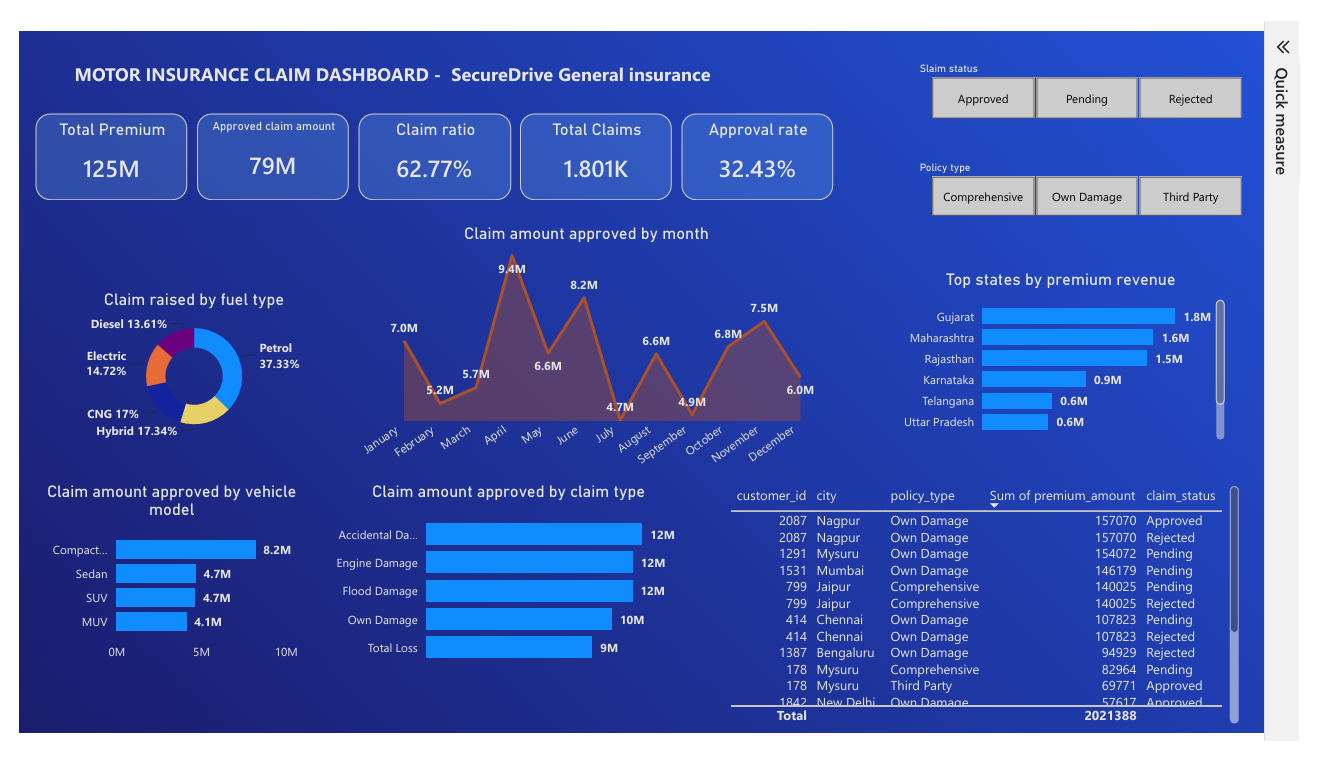

What the dashboard file says about the page in this screenshot:
{"tool":"powerbi","page":{"name":"Page 1","canvas":[1280,720],"ordinal":0},"visuals":[{"type":"barChart","title":"Claim amount approved by vehicle model","fields":{"Category":["public policies.vehicle_type"],"Y":["Sum(public claim.amount_approved)"]},"box":[16,462,280,194],"z":2000},{"type":"barChart","title":"Claim amount approved by claim type","fields":{"Category":["public claim.claim_type"],"Y":["Sum(public claim.amount_approved)"]},"box":[308,462,389,200],"z":3000},{"type":"areaChart","title":"Claim amount approved by month","fields":{"Category":["public claim.claim_date.Variation.Date Hierarchy.Month"],"Y":["Sum(public claim.amount_approved)"]},"box":[343,197,479,270],"z":4000},{"type":"clusteredBarChart","title":"Top states by premium revenue","fields":{"Y":["Sum(public policies.premium_amount)"],"Category":["public customer.state"]},"box":[897,244,346,180],"z":5000},{"type":"tableEx","fields":{"Values":["public policies.customer_id","public customer.city","public policies.policy_type","Sum(public policies.premium_amount)","public claim.claim_status"]},"box":[726,462,532,254],"z":6000},{"type":"donutChart","title":"Claim raised by fuel type","fields":{"Y":["Sum(public claim.claim_id)"],"Category":["public policies.fuel_type"]},"box":[62,265,234,159],"z":7000},{"type":"slicer","fields":{"Values":["public policies.policy_type"]},"box":[912.3,128.4,367.7,68.1],"z":8000},{"type":"textbox","box":[0,26.3,766.4,49.6],"z":9000},{"type":"slicer","fields":{"Values":["public claim.claim_status"]},"box":[912.3,26.3,367.7,70],"z":10000},{"type":"cardVisual","title":"Total Premium","fields":{"Data":["public policies.Total Premium"]},"box":[15.6,83.6,156.6,89.5],"z":10001},{"type":"cardVisual","title":"Approved claim amount","fields":{"Data":["public claim.Total Approved"]},"box":[181.9,83.6,156.6,89.5],"z":10002},{"type":"cardVisual","title":"Claim ratio","fields":{"Data":["public claim.claim_ratio %"]},"box":[348.2,83.6,156.6,89.5],"z":10003},{"type":"cardVisual","title":"Total Claims","fields":{"Data":["Count(public claim.claim_id)"]},"box":[513.6,83.6,156.6,89.5],"z":10004},{"type":"cardVisual","title":"Approval rate","fields":{"Data":["public claim.Approval Rate"]},"box":[679.9,83.6,156.6,89.5],"z":10005}]}

Visuals, with their boxes in screenshot pixels (x1, y1, x2, y2), scaled from the page's 1280x720 canvas onto the 1320x761 screenshot:
"Claim amount approved by vehicle model" barChart: select_region(16, 488, 305, 693)
"Claim amount approved by claim type" barChart: select_region(318, 488, 719, 700)
"Claim amount approved by month" areaChart: select_region(354, 208, 848, 494)
"Top states by premium revenue" clusteredBarChart: select_region(925, 258, 1282, 448)
tableEx - public policies.customer_id x public customer.city: select_region(749, 488, 1297, 757)
"Claim raised by fuel type" donutChart: select_region(64, 280, 305, 448)
slicer - public policies.policy_type: select_region(941, 136, 1319, 208)
textbox: select_region(0, 28, 790, 80)
slicer - public claim.claim_status: select_region(941, 28, 1319, 102)
"Total Premium" cardVisual: select_region(16, 88, 178, 183)
"Approved claim amount" cardVisual: select_region(188, 88, 349, 183)
"Claim ratio" cardVisual: select_region(359, 88, 521, 183)
"Total Claims" cardVisual: select_region(530, 88, 691, 183)
"Approval rate" cardVisual: select_region(701, 88, 863, 183)
